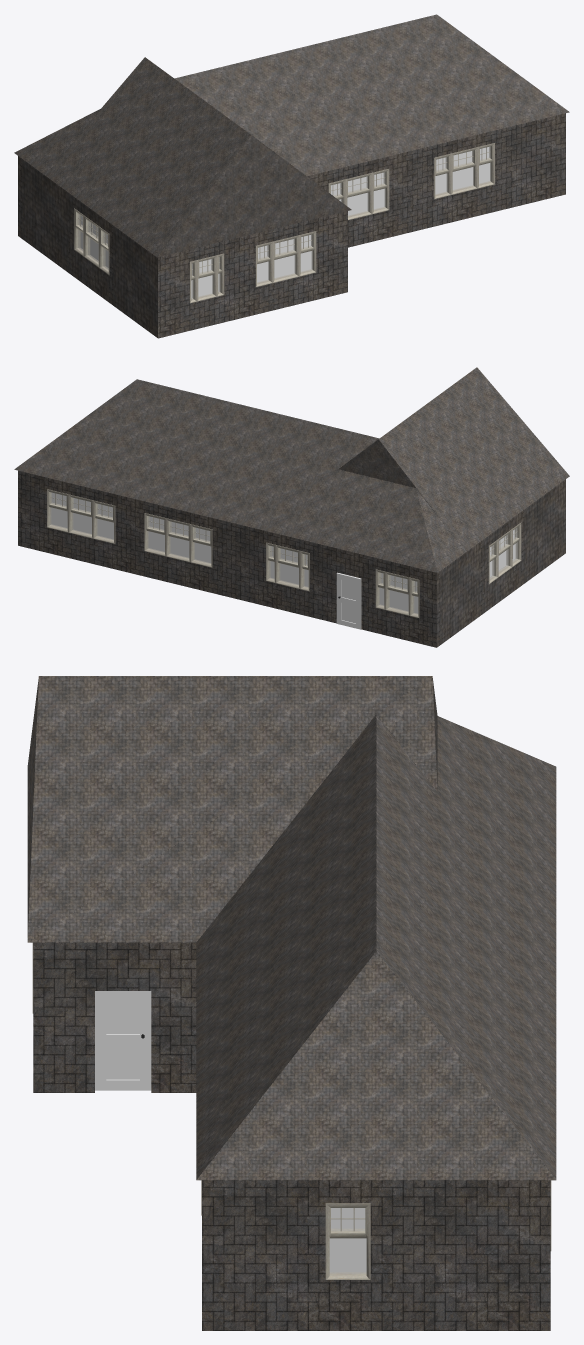
The model's file is RandomHouseOutside04.fbx.
3 renders of one model, top to bottom at view 1: azimuth 30°, elevation 25°; view 2: azimuth 150°, elevation 25°; view 3: azimuth 270°, elevation 25°, orthographic. The views are drawn at different scales.
Parts seen in each view (by area): view 1: Slanted Roof, Outside Plain Wall (Floor 1), FancyWindow_stretched (×12), BuildingFiller; view 2: Slanted Roof, Outside Plain Wall (Floor 1), FancyWindow_stretched (×15), BuildingFiller, generic_door; view 3: Slanted Roof, Outside Plain Wall (Floor 1), generic_door, FancyWindow_stretched, BuildingFiller.
Boxes of the visible parts, bbox=[...] form: Slanted Roof: bbox=[14, 14, 569, 257]; Outside Plain Wall (Floor 1): bbox=[18, 113, 565, 338]; FancyWindow_stretched (×12): bbox=[74, 143, 494, 301]; BuildingFiller: bbox=[80, 147, 489, 297]; Slanted Roof: bbox=[14, 367, 569, 572]; Outside Plain Wall (Floor 1): bbox=[18, 470, 565, 647]; FancyWindow_stretched (×15): bbox=[47, 489, 521, 618]; BuildingFiller: bbox=[51, 492, 515, 613]; generic_door: bbox=[336, 572, 361, 629]; Slanted Roof: bbox=[27, 676, 556, 1180]; Outside Plain Wall (Floor 1): bbox=[33, 942, 550, 1330]; generic_door: bbox=[95, 991, 151, 1090]; FancyWindow_stretched: bbox=[325, 1203, 370, 1279]; BuildingFiller: bbox=[329, 1208, 366, 1272].
Bounding box in the file's own units: 17.4 × 6.5 × 9.4.
